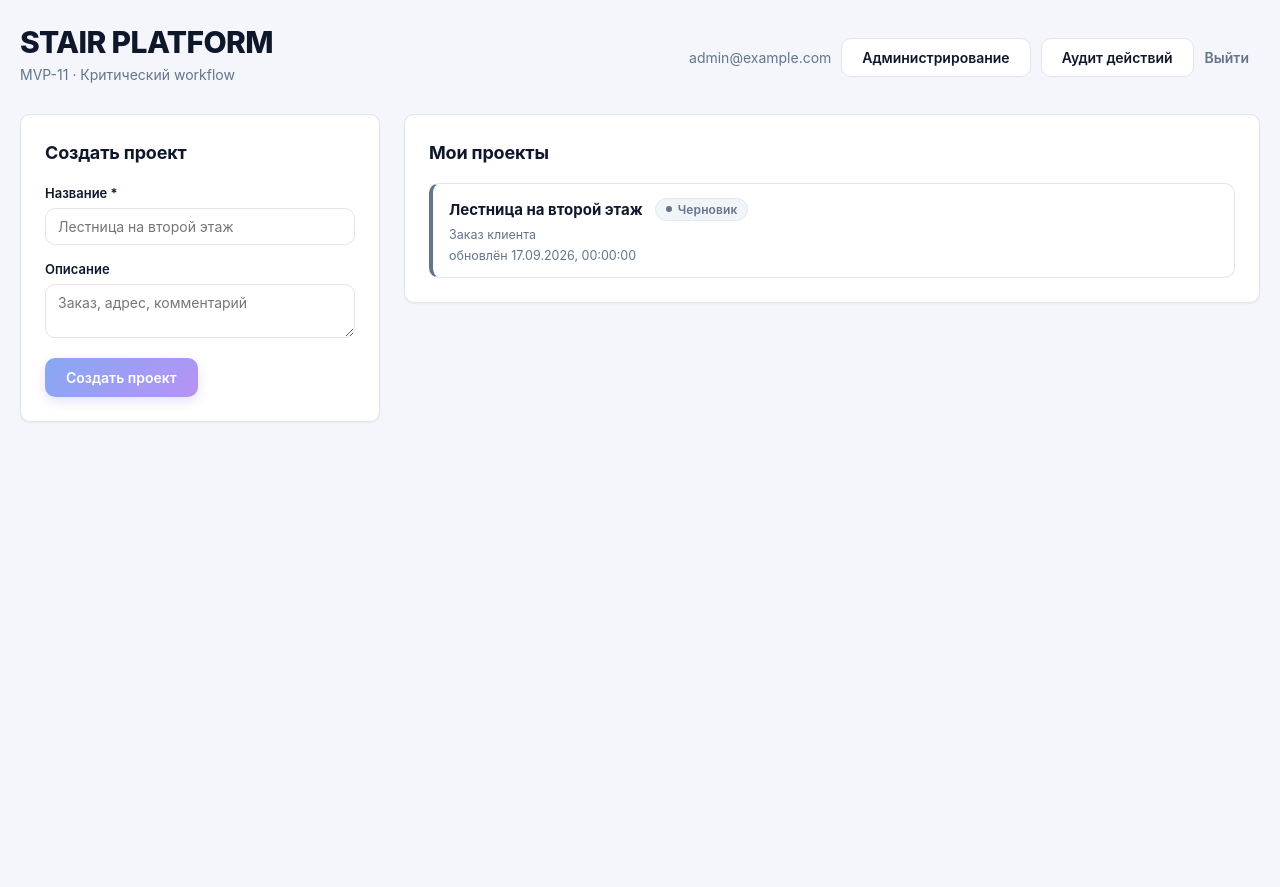
Test case: App routing › открывает детали проекта и возвращается к списку
Click the text "Лестница на второй этаж" at (546, 209), box [449,200,643,219]
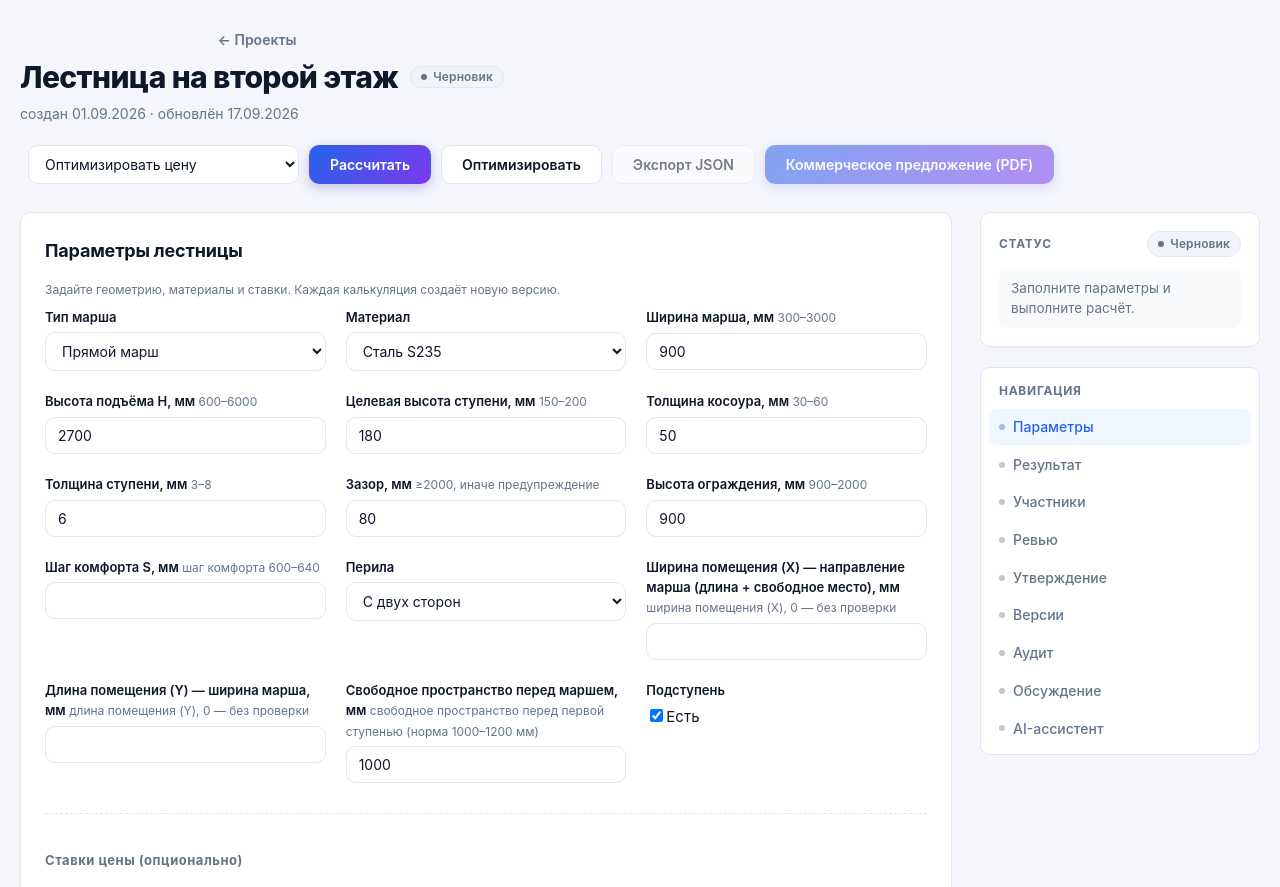
Check: the button "← Проекты" is shown
Click the button "← Проекты" at (257, 40), box [10,24,504,55]
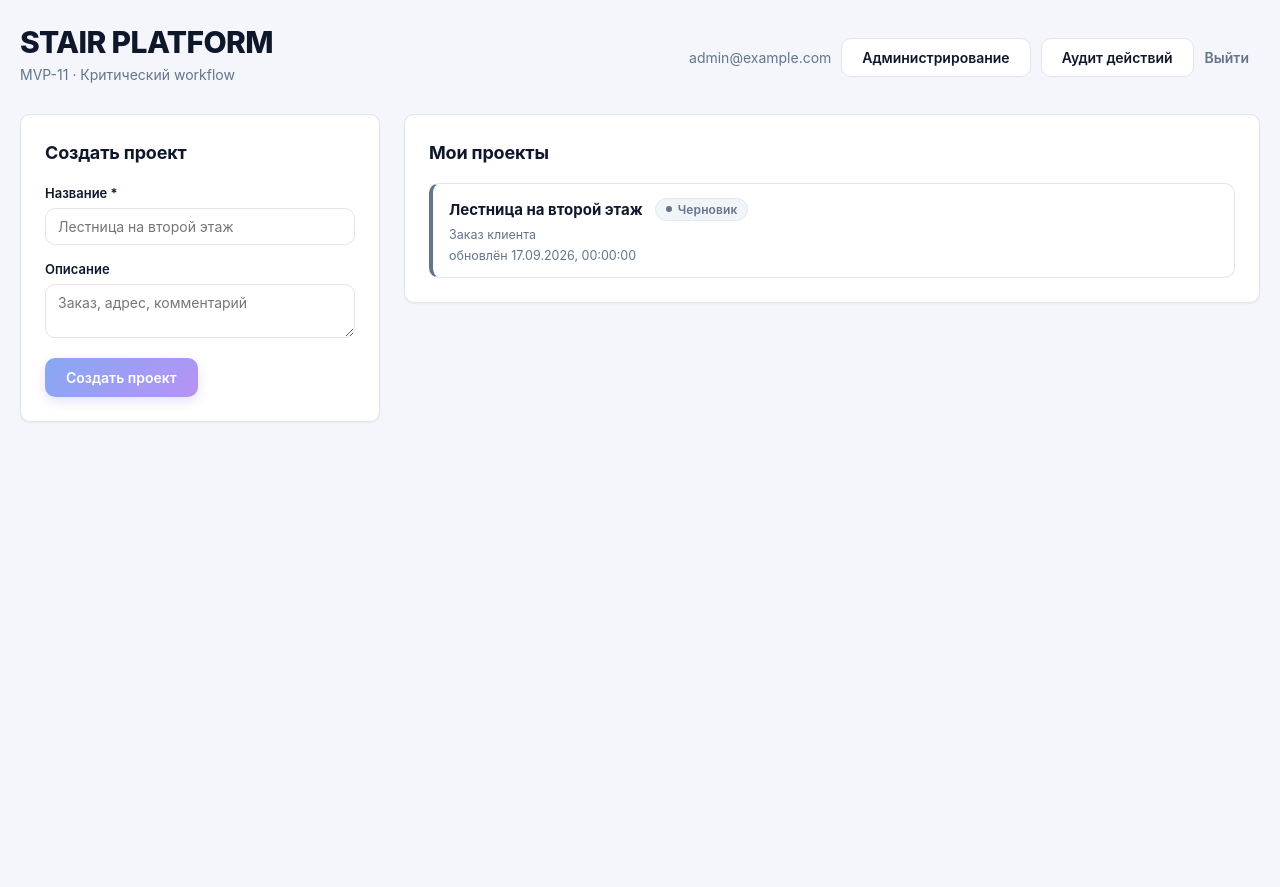
Check: the button "Создать проект" is shown, box [45,358,198,397]
